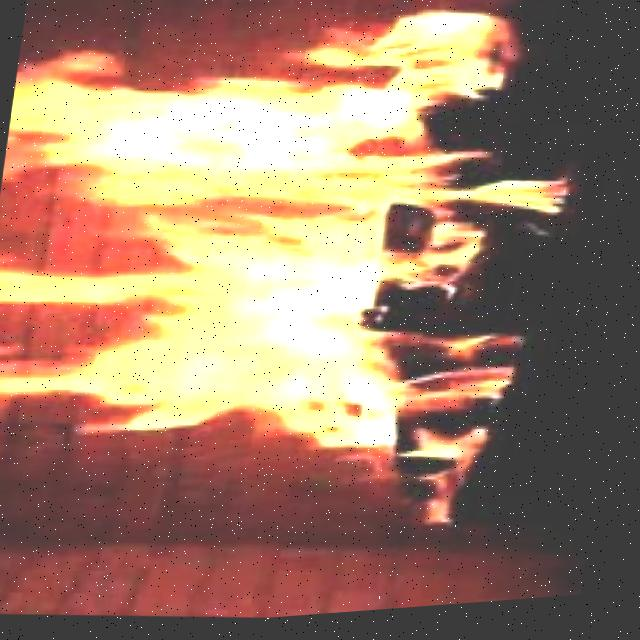Fire: (0, 0, 594, 573)
